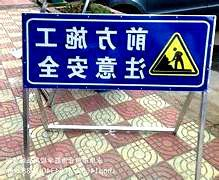sign: (22, 14, 210, 92)
